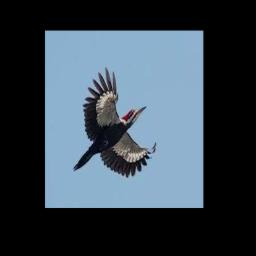Woodpecker: (73, 67, 156, 177)
